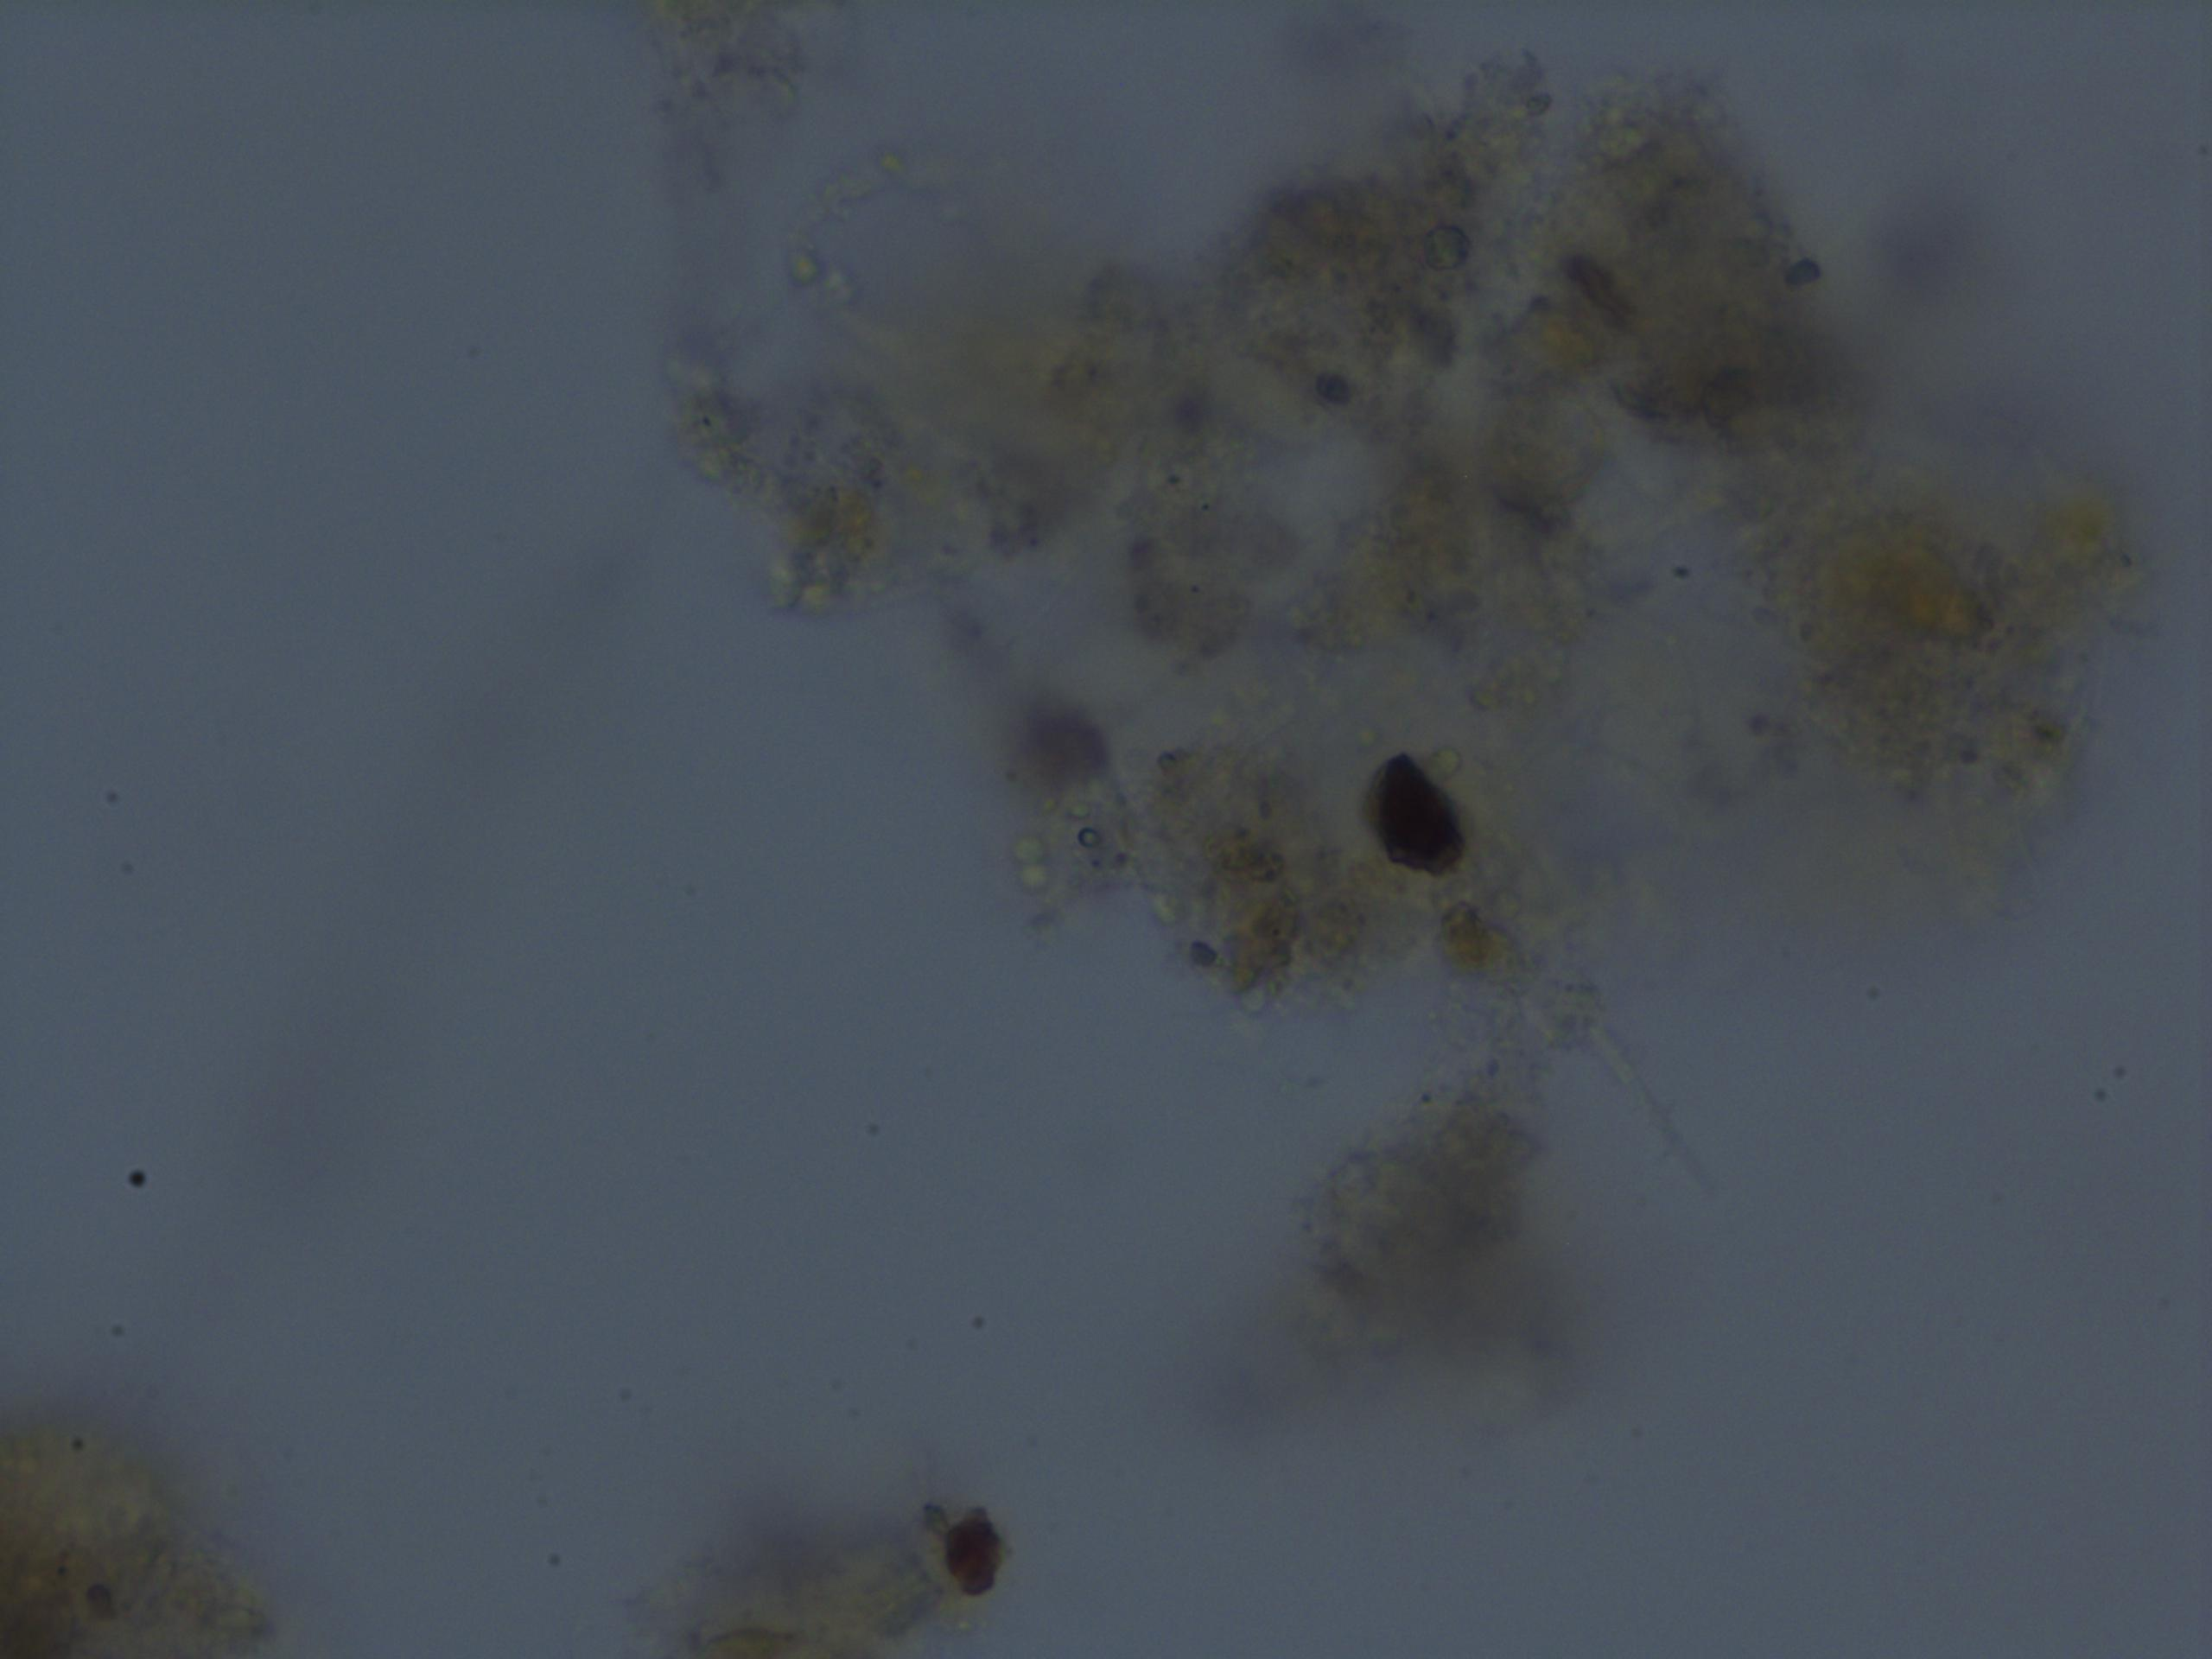open_floc: (650, 0, 2132, 1403)
